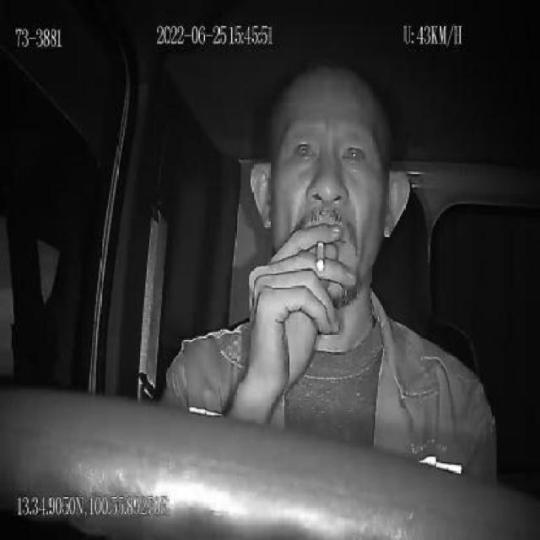smoking: (315, 240, 326, 273)
